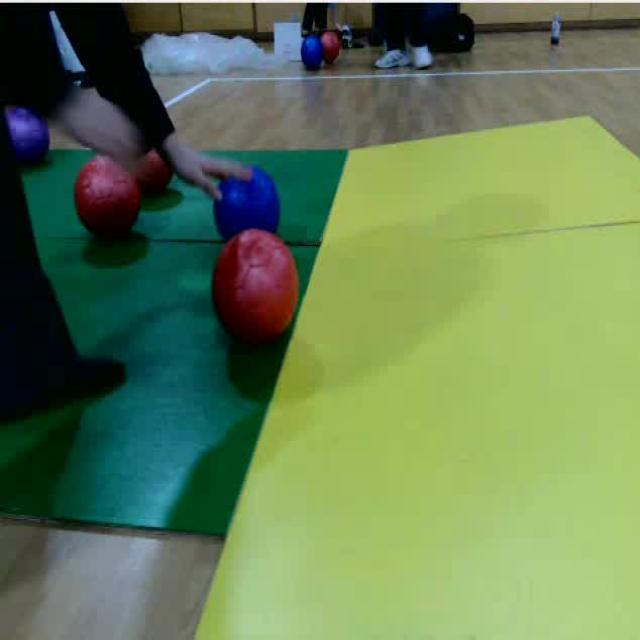blue_ball: (214, 158, 285, 252), (300, 32, 325, 74)
purple_ball: (5, 102, 58, 181)
red_ball: (211, 229, 304, 345), (70, 152, 147, 246), (123, 120, 175, 194), (321, 30, 342, 66)
